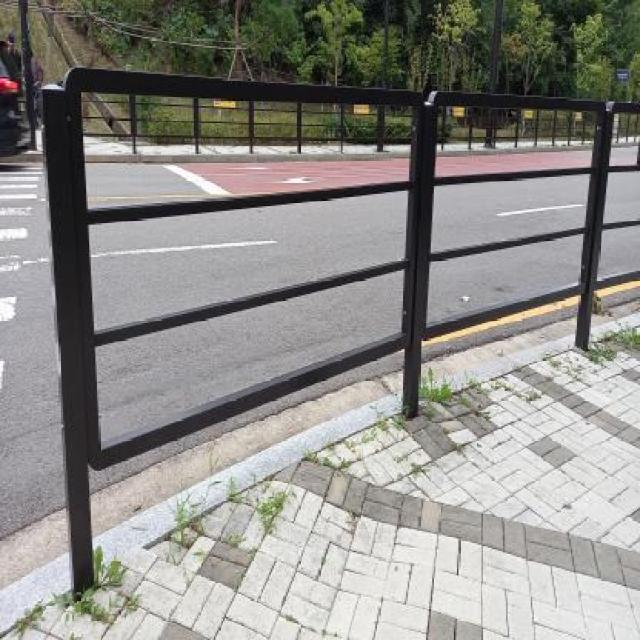fence: (46, 28, 640, 618)
